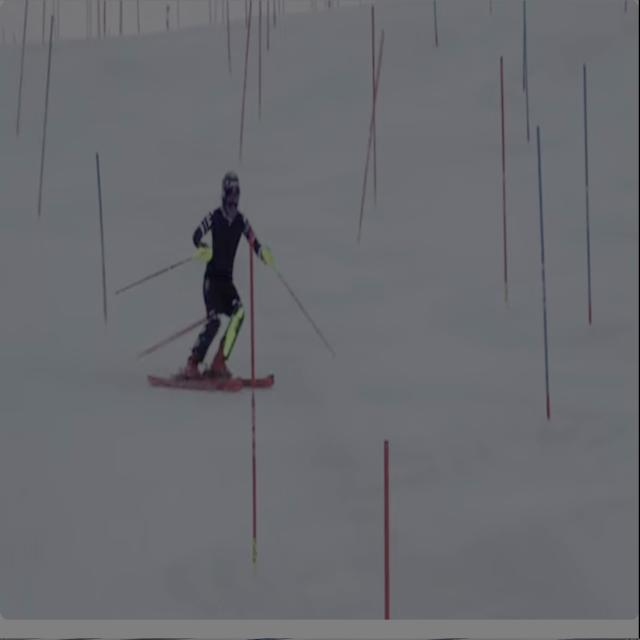gate: (527, 130, 565, 443), (241, 233, 270, 575), (356, 6, 394, 257), (571, 61, 604, 340), (76, 134, 120, 341), (363, 432, 404, 640), (35, 19, 58, 262), (232, 0, 265, 163)
